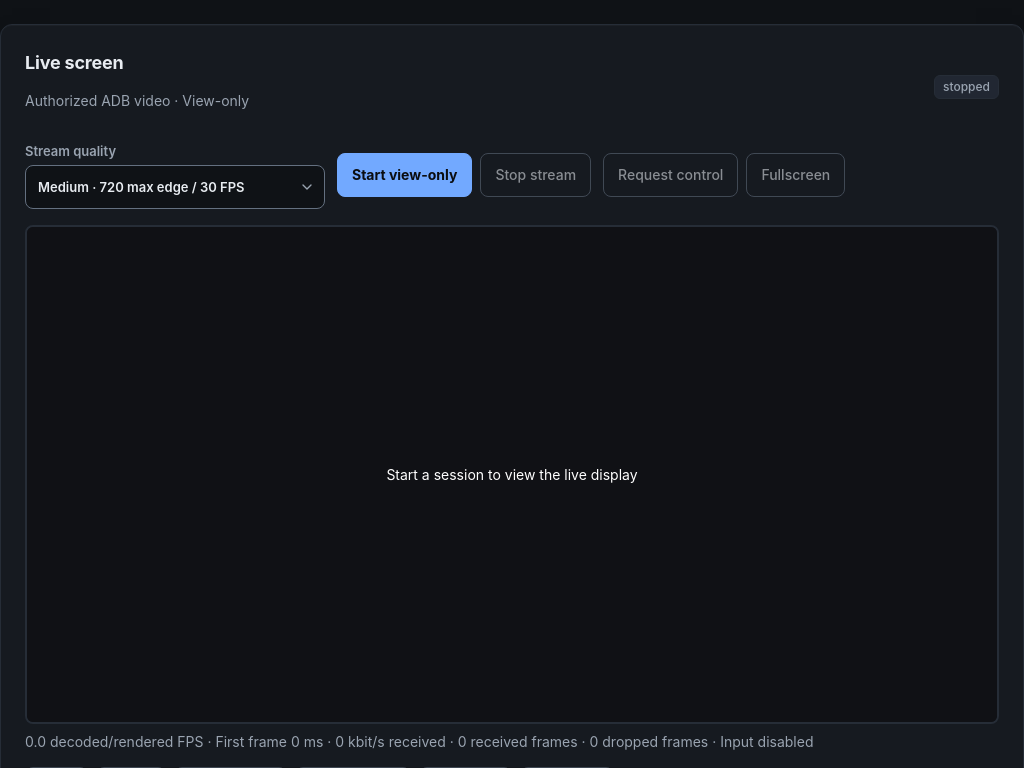
Scenario: live screen permission and lifecycle › reports unsupported decoding explicitly
Click the button "Start view-only".
click(405, 175)  # box left=337, top=153, right=472, bottom=197
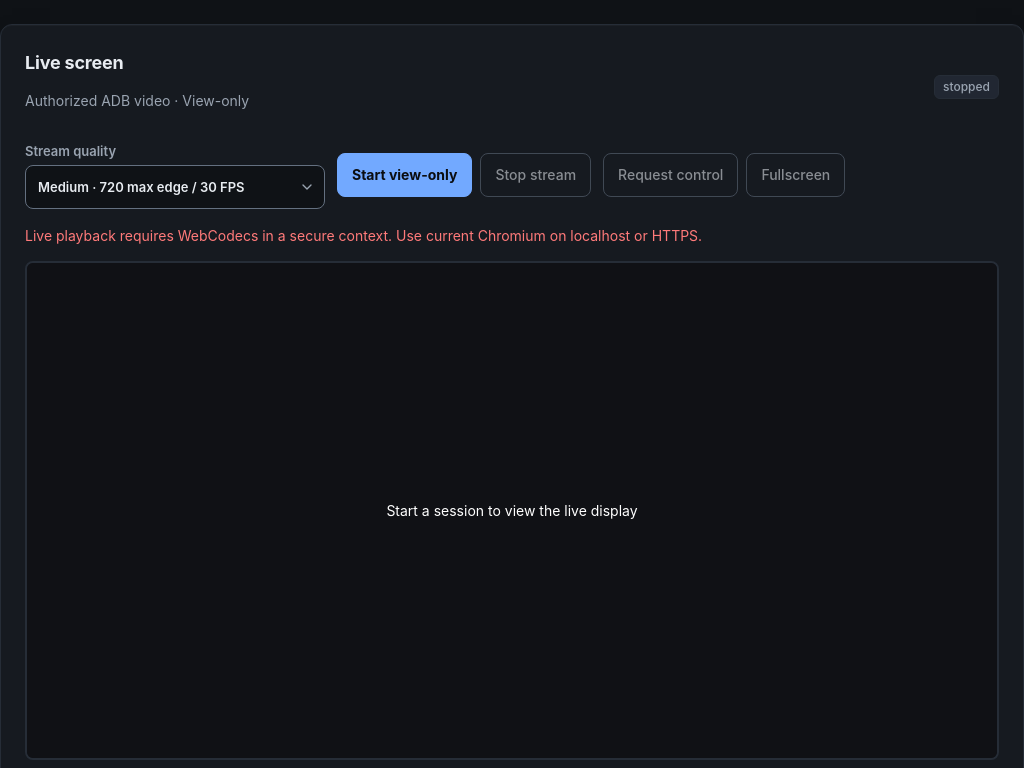
Check: the 2nd message shows "WebCodecs", box left=25, top=227, right=702, bottom=244
